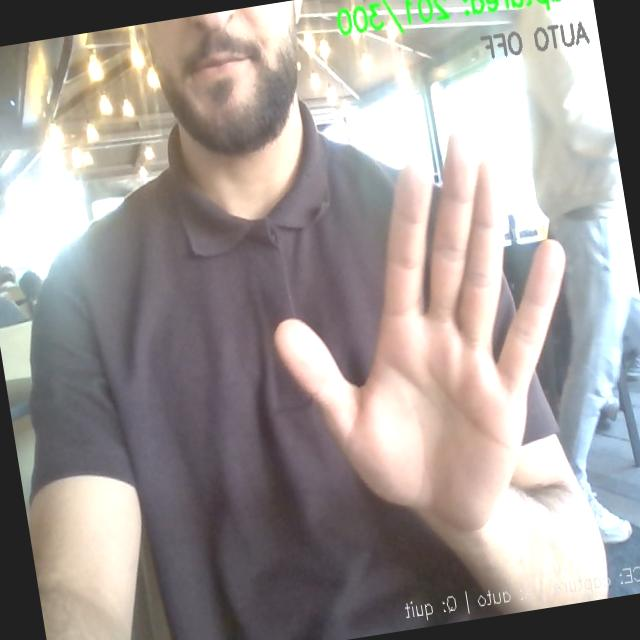Hand: (275, 136, 564, 530)
